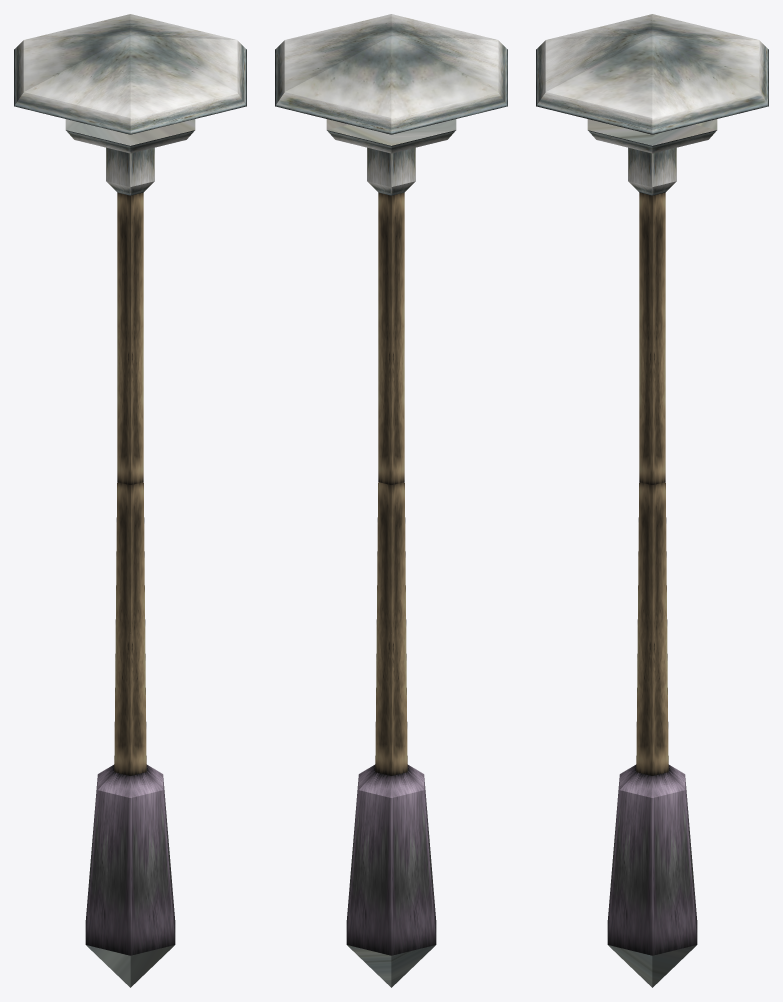
Rendered from lamp_circle_8m.DAE.
3 renders of one model, left to right at view 1: azimuth 30°, elevation 25°; view 2: azimuth 150°, elevation 25°; view 3: azimuth 270°, elevation 25°, orthographic.
Visible parts, largest first — view 1: Cylinder02; view 2: Cylinder02; view 3: Cylinder02.
Boxes of the visible parts, x1,y1,x2,y2 form: Cylinder02: (14, 14, 246, 987); Cylinder02: (275, 14, 507, 987); Cylinder02: (536, 14, 768, 987).
Bounding box in the file's own units: 2.04 × 7.98 × 1.77.
